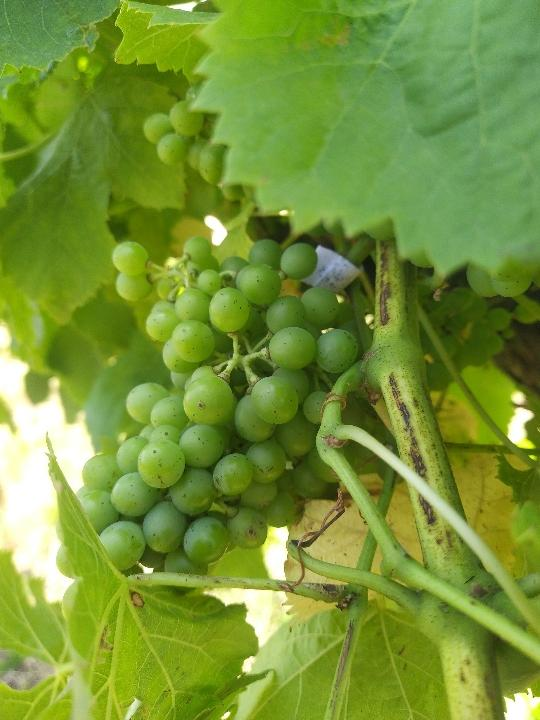grape: (56, 238, 387, 618)
